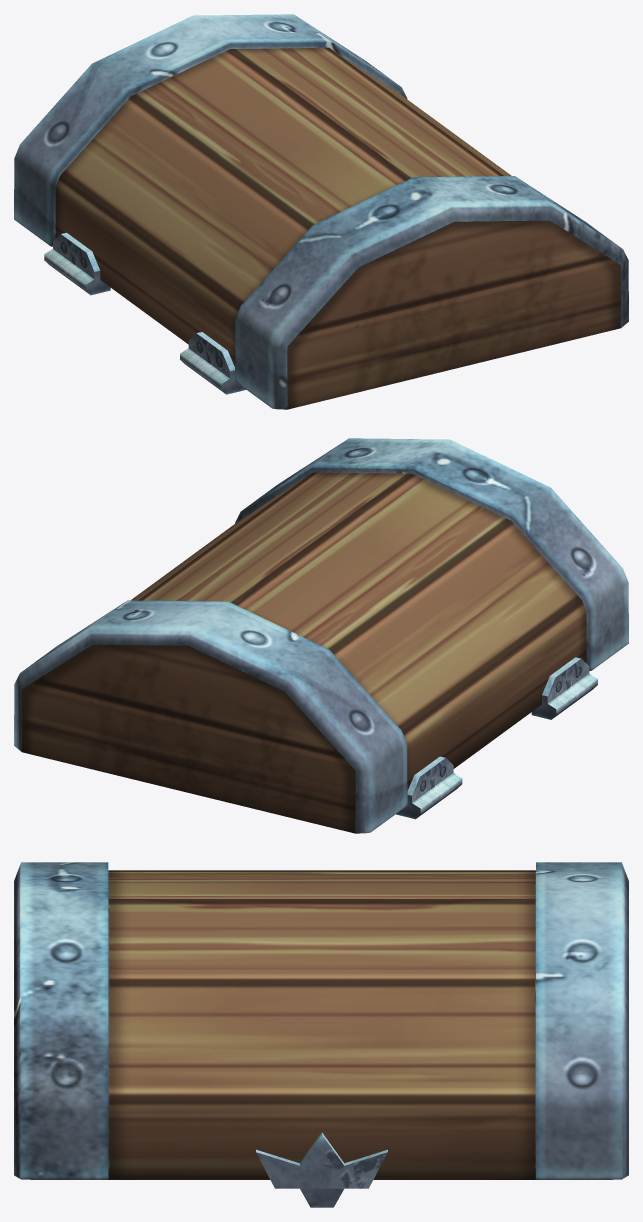
File: Sm_Poison_Box_Lid.fbx
3 renders of one model, top to bottom at view 1: azimuth 30°, elevation 25°; view 2: azimuth 150°, elevation 25°; view 3: azimuth 270°, elevation 25°, orthographic. The views are drawn at different scales.
Visible parts, largest first — view 1: Sm_Poison_Box_Lid; view 2: Sm_Poison_Box_Lid; view 3: Sm_Poison_Box_Lid.
Boxes of the visible parts, x1,y1,x2,y2 form: Sm_Poison_Box_Lid: [14, 14, 628, 409]; Sm_Poison_Box_Lid: [14, 438, 628, 833]; Sm_Poison_Box_Lid: [14, 862, 628, 1207].
Size of the model in its own units: 118 by 57.5 by 148.
